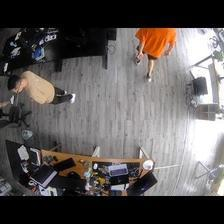normal: (6, 70, 75, 105), (134, 27, 174, 83)
